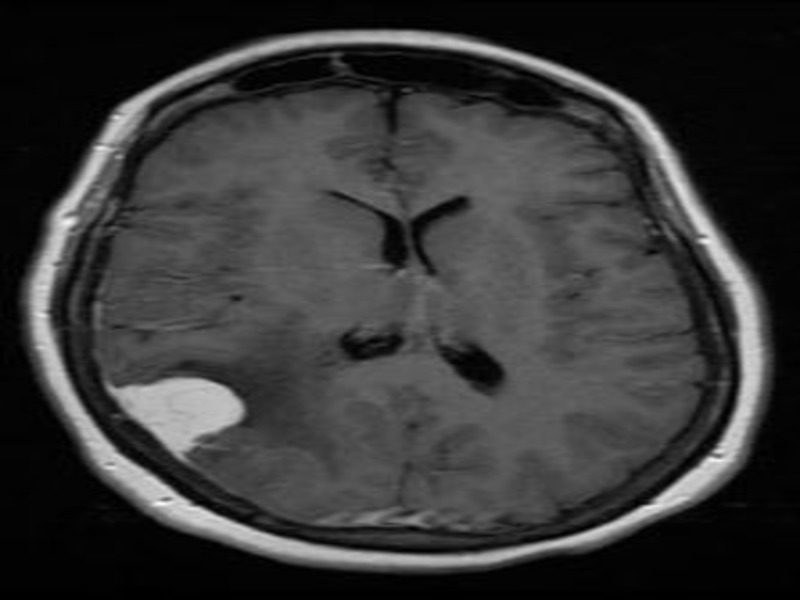tumor: (100, 369, 251, 467)
